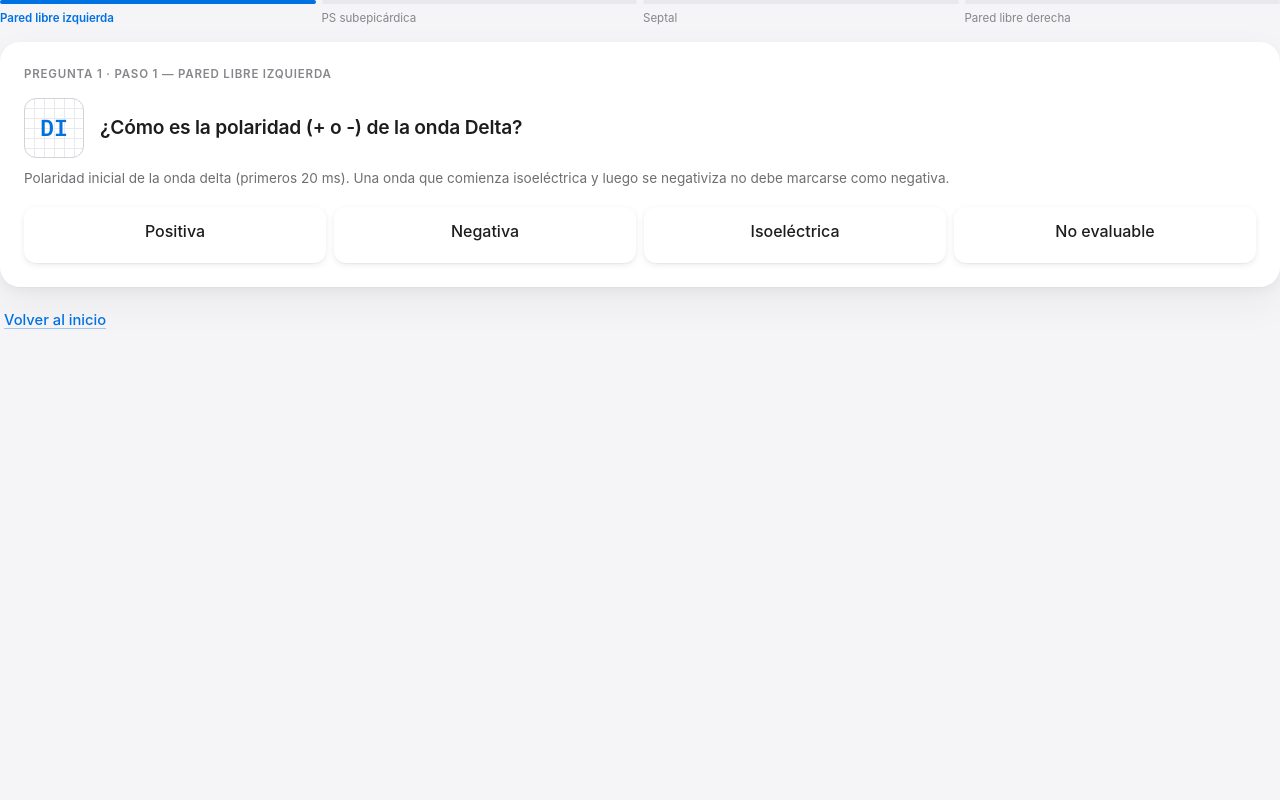
Scenario: Asistente guiado › recorre los cuatro pasos hasta DL
Click the button "Positiva". click: (175, 235)
box: x1=24 y1=207 x2=326 y2=263
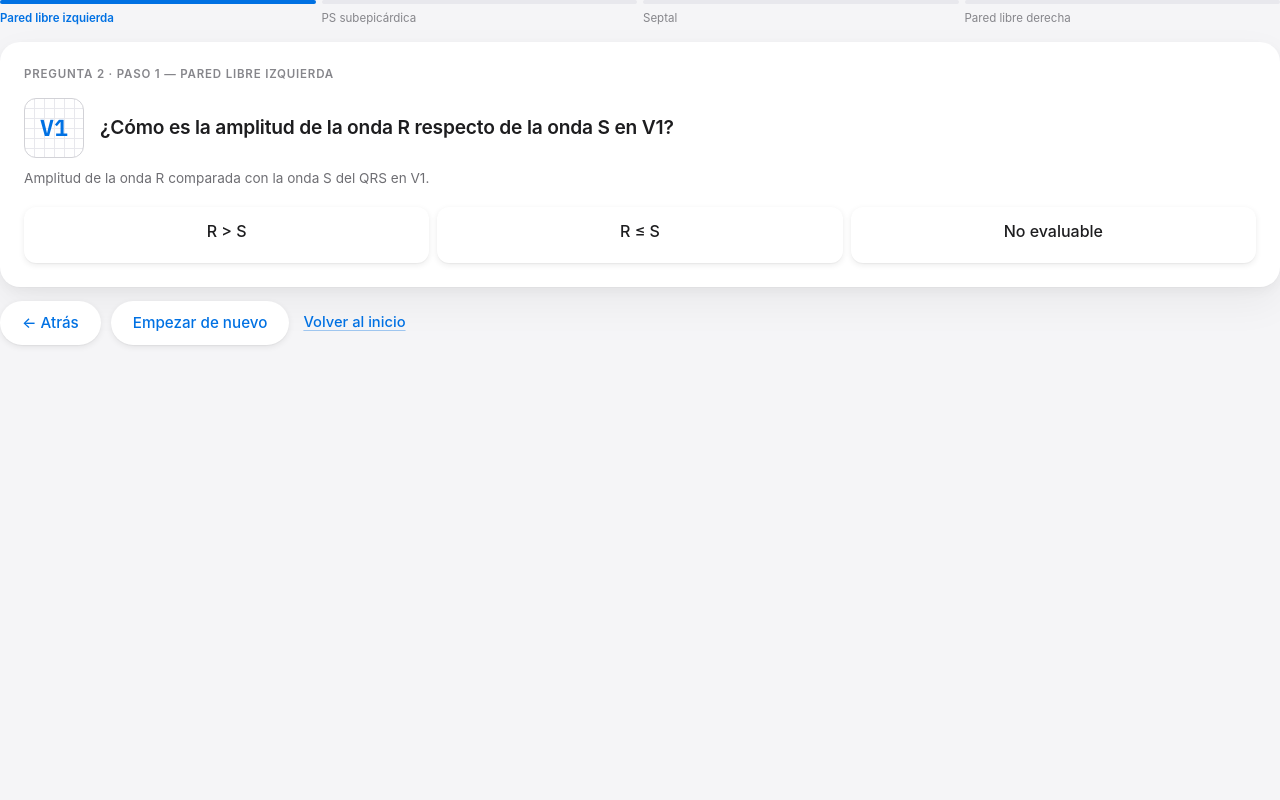
Check: the element with test id "pregunta" shows "R respecto de la onda S en V1", box x1=100 y1=115 x2=674 y2=139
Click the button "R ≤ S". click: (640, 235)
box: x1=437 y1=207 x2=843 y2=263
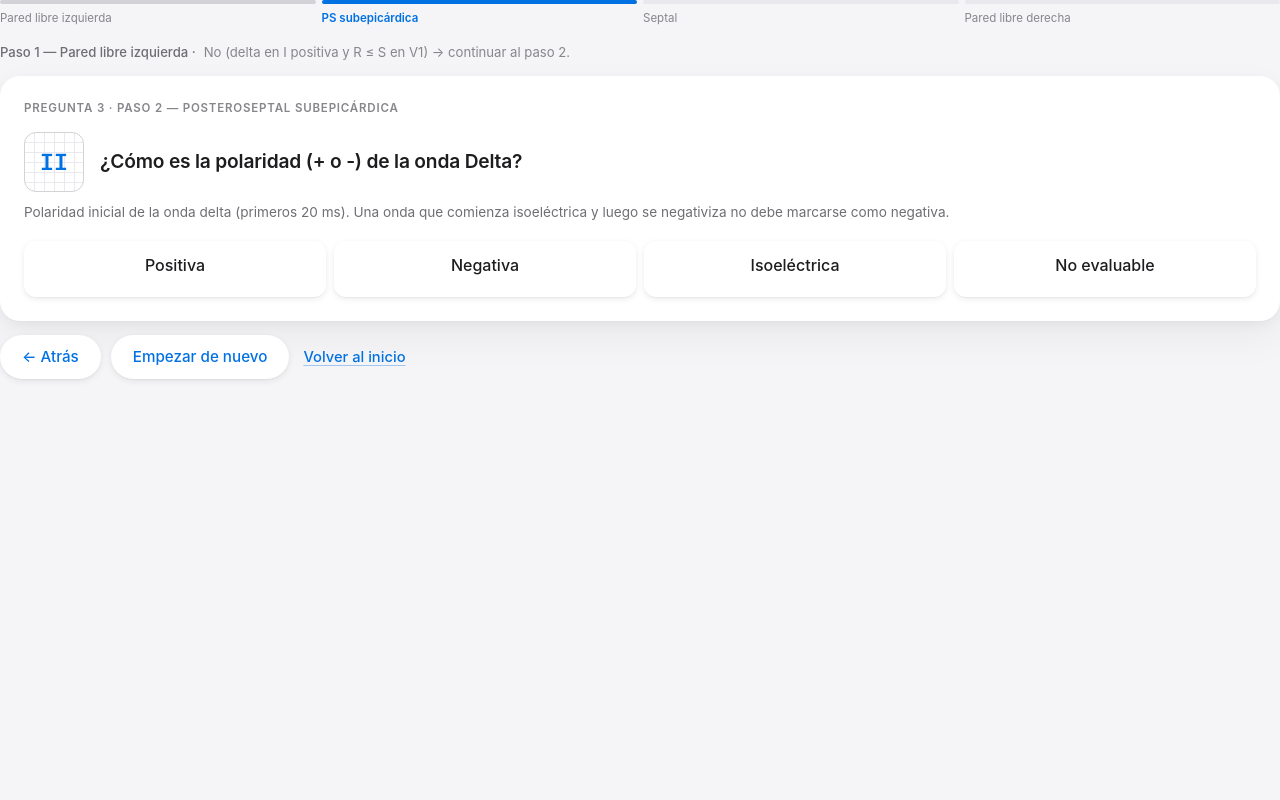
Click the button "Positiva". click: (175, 269)
box: x1=24 y1=241 x2=326 y2=297
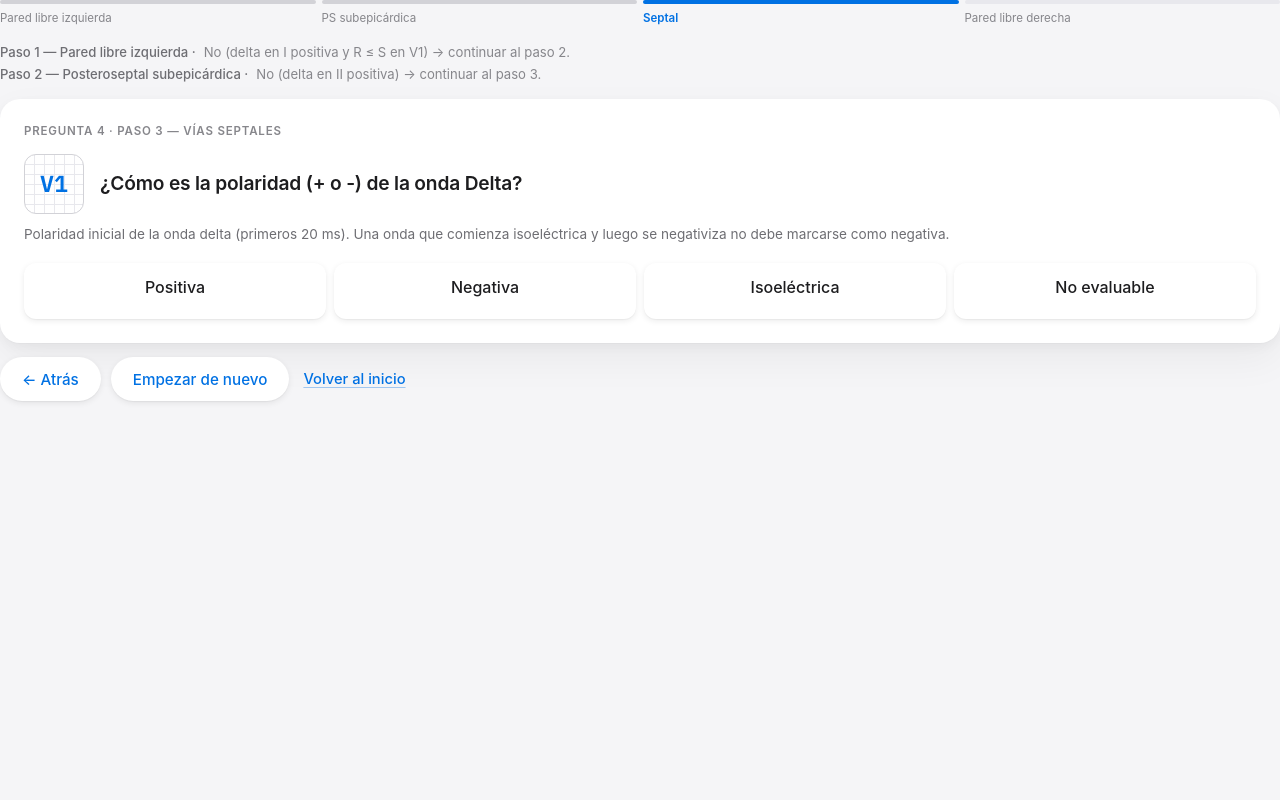
Click the button "Positiva". click: (175, 291)
box: x1=24 y1=263 x2=326 y2=319
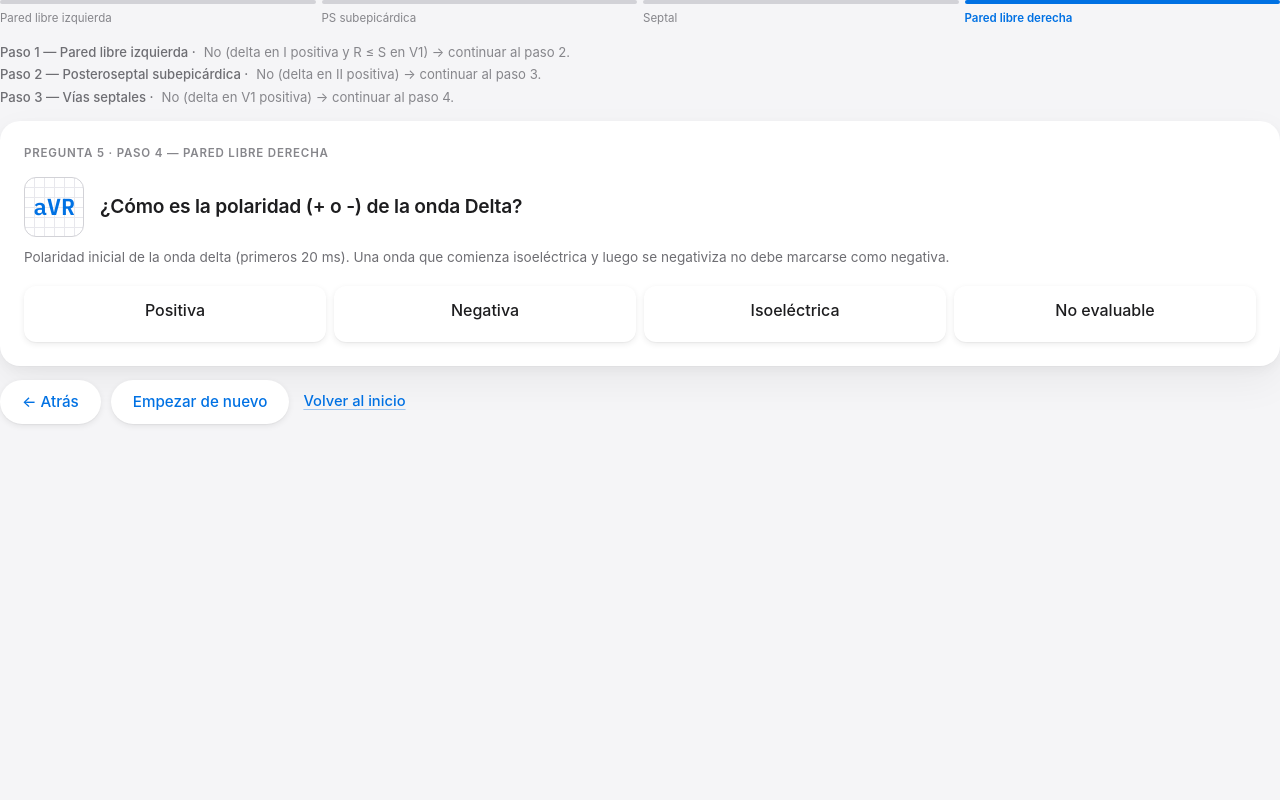
Click the button "Negativa". click: (485, 314)
box: x1=334 y1=286 x2=636 y2=342
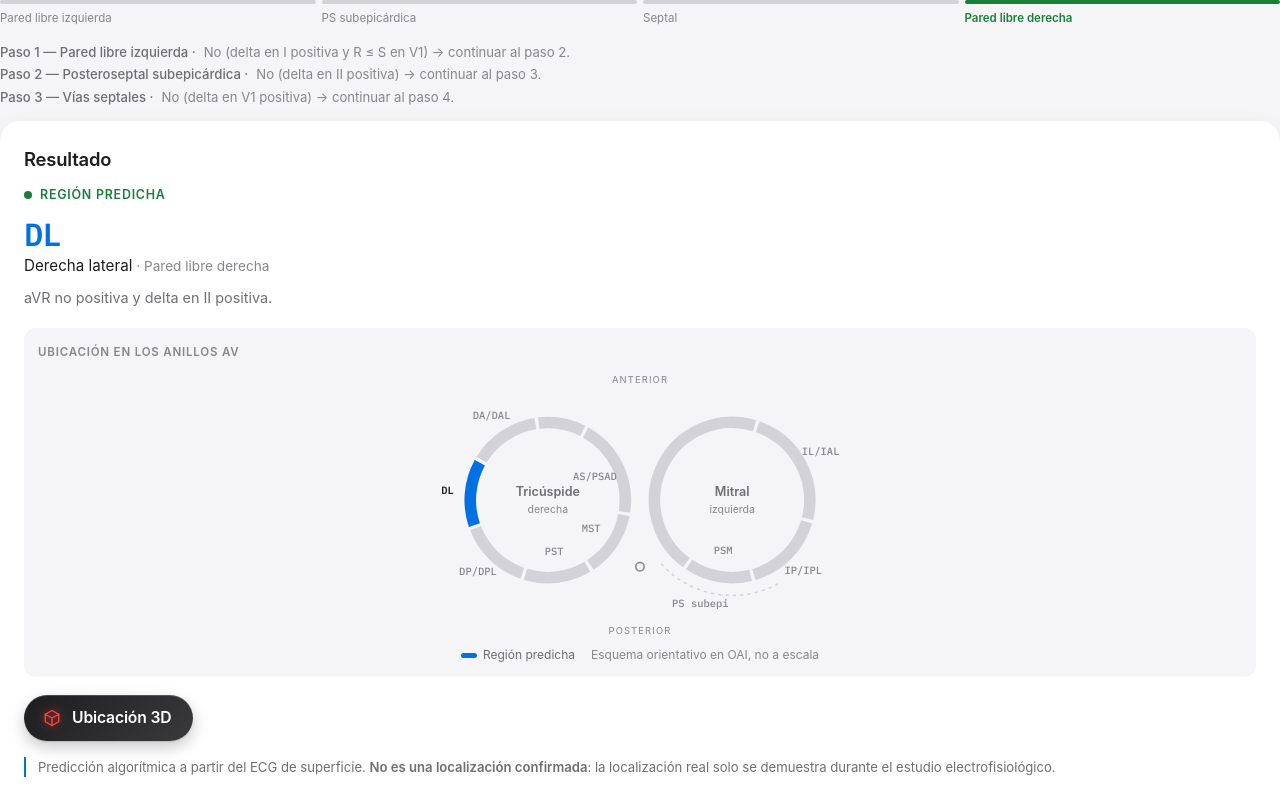
Check: the list item with test id "region" shows "DL", box x1=24 y1=213 x2=61 y2=255
